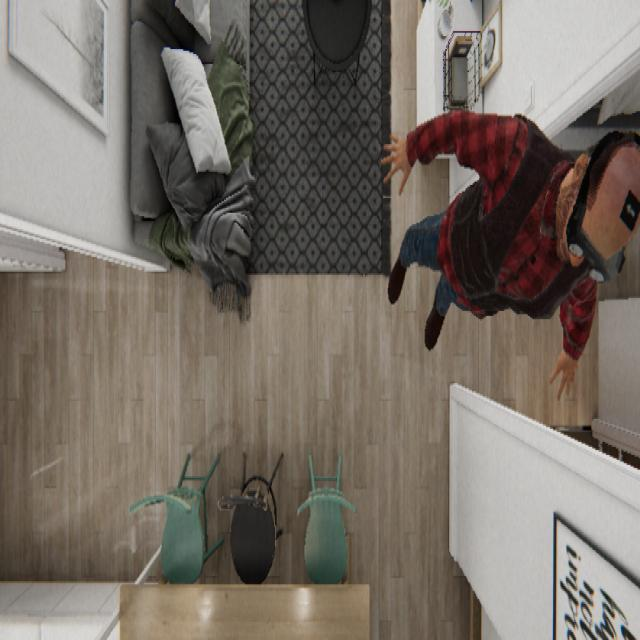Human: (381, 106, 638, 401)
UnityLogo: (618, 185, 638, 232)
